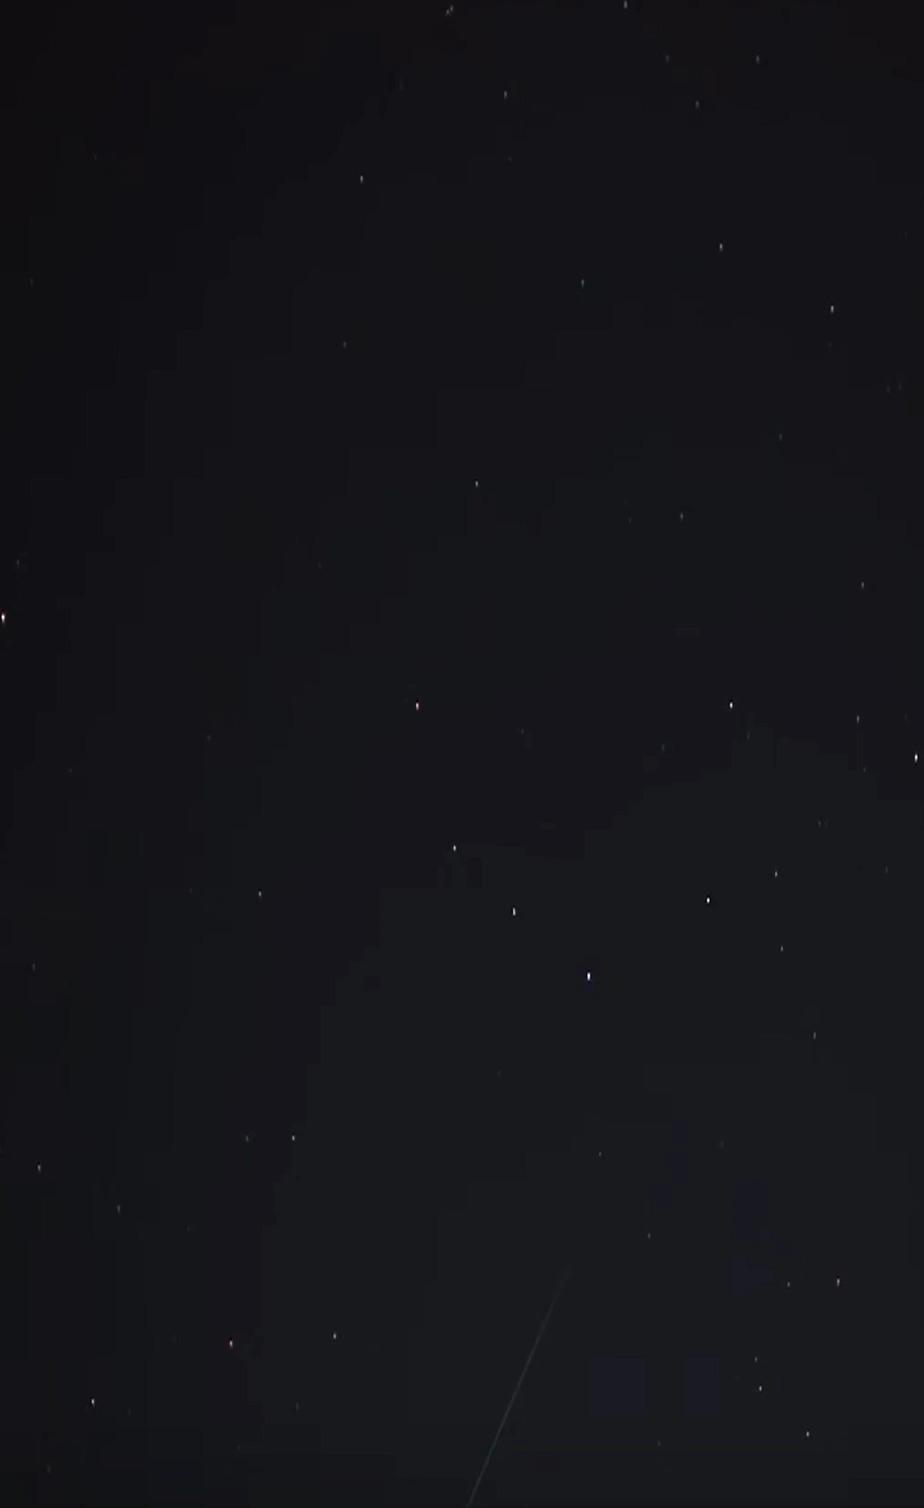meteorite: (439, 1249, 589, 1507)
